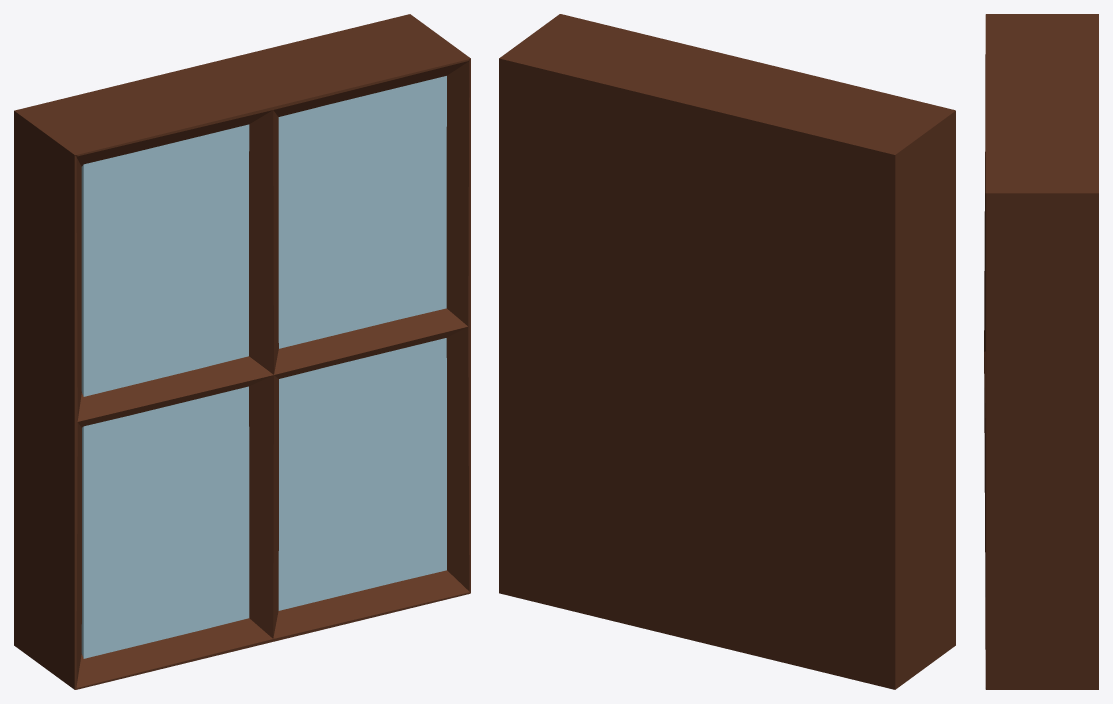
Rendered from M_Fenetre.fbx.
3 views of the same model, side by side, from view 1: azimuth 30°, elevation 25°; view 2: azimuth 150°, elevation 25°; view 3: azimuth 270°, elevation 25° (orthographic). The views are drawn at different scales.
Visible parts, largest first — view 1: Cube.014; view 2: Cube.014; view 3: Cube.014.
Part boxes in pixels (x1,y1,x2,y2): Cube.014: (14, 14, 470, 689); Cube.014: (499, 14, 955, 689); Cube.014: (984, 14, 1098, 689).
Size of the model in its own units: 620 by 800 by 168.
